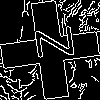Z: (25, 25, 75, 62)
